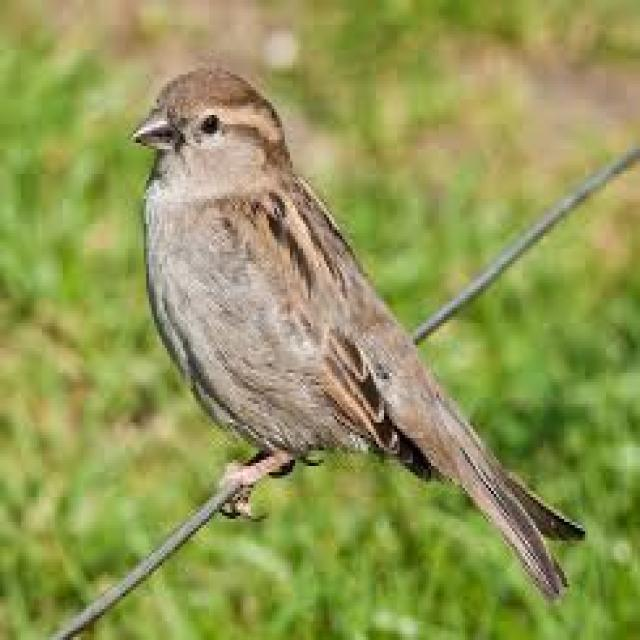Sparrow: (128, 60, 572, 578)
